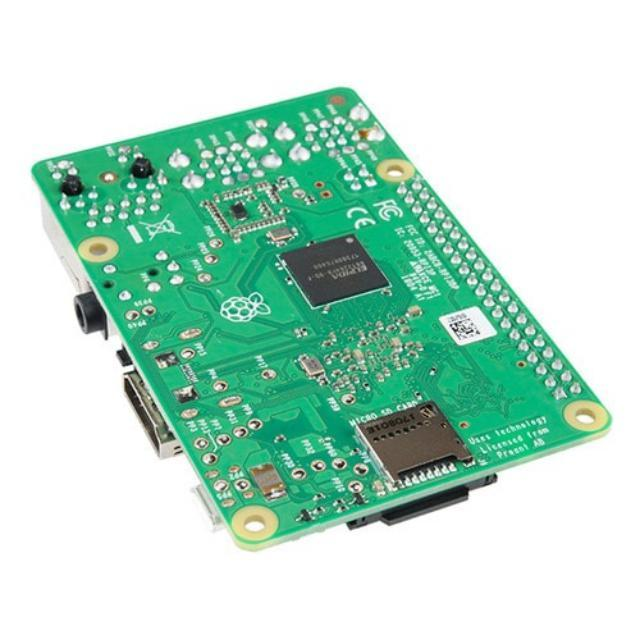Raspberry Pi 3 B-: (33, 89, 613, 550)
